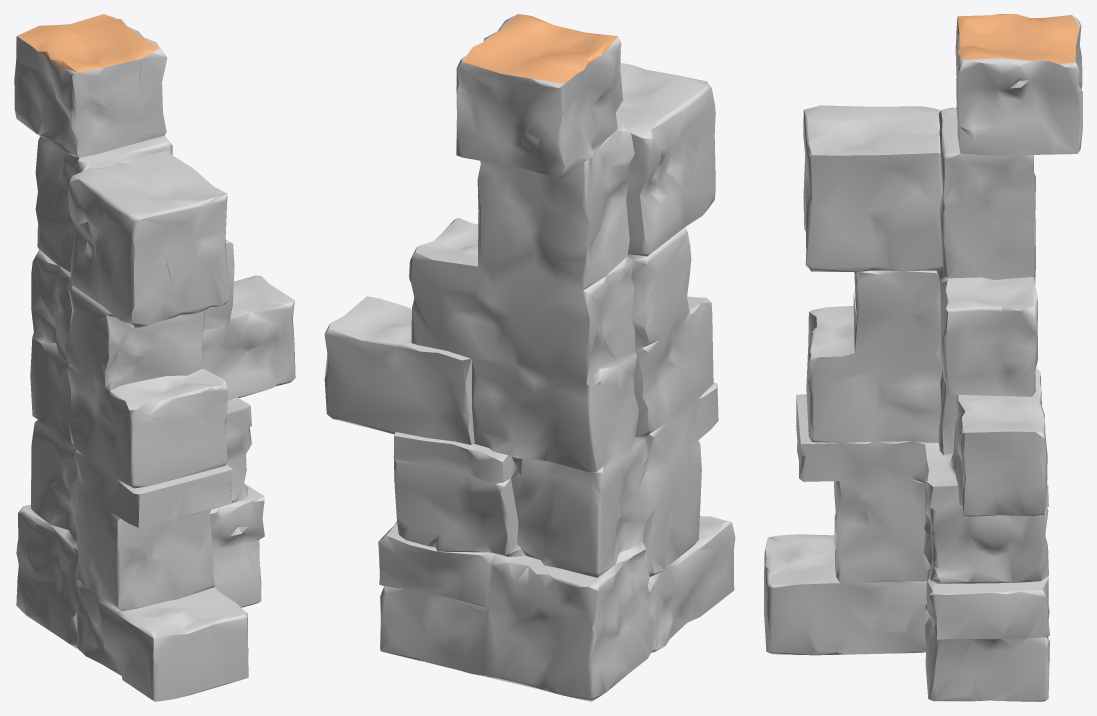
The model's file is Wall5_fbx.fbx.
3 renders of one model, left to right at view 1: azimuth 30°, elevation 25°; view 2: azimuth 150°, elevation 25°; view 3: azimuth 270°, elevation 25°, orthographic. The views are drawn at different scales.
Visible parts, largest first — view 1: Wall5; view 2: Wall5; view 3: Wall5.
Boxes of the visible parts, <box> form: Wall5: <box>14,14,295,701</box>; Wall5: <box>324,14,735,701</box>; Wall5: <box>764,14,1082,701</box>.
Bounding box in the file's own units: 1.17 × 2.6 × 1.25.
